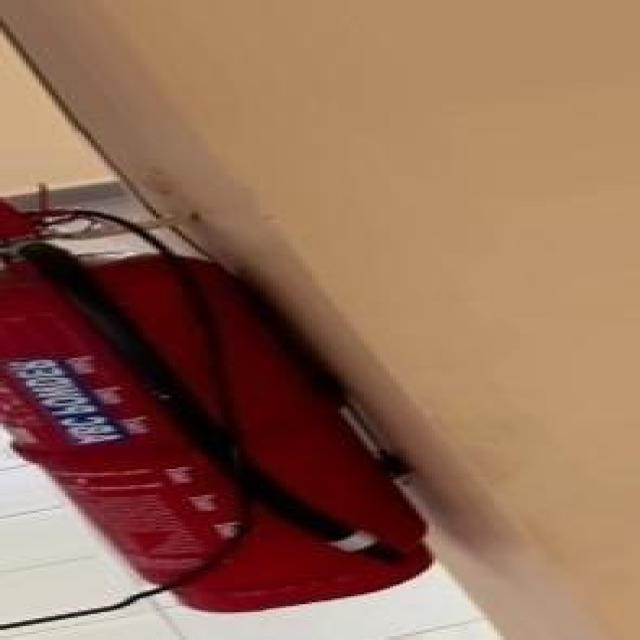fire_extinguisher: (0, 188, 445, 615)
